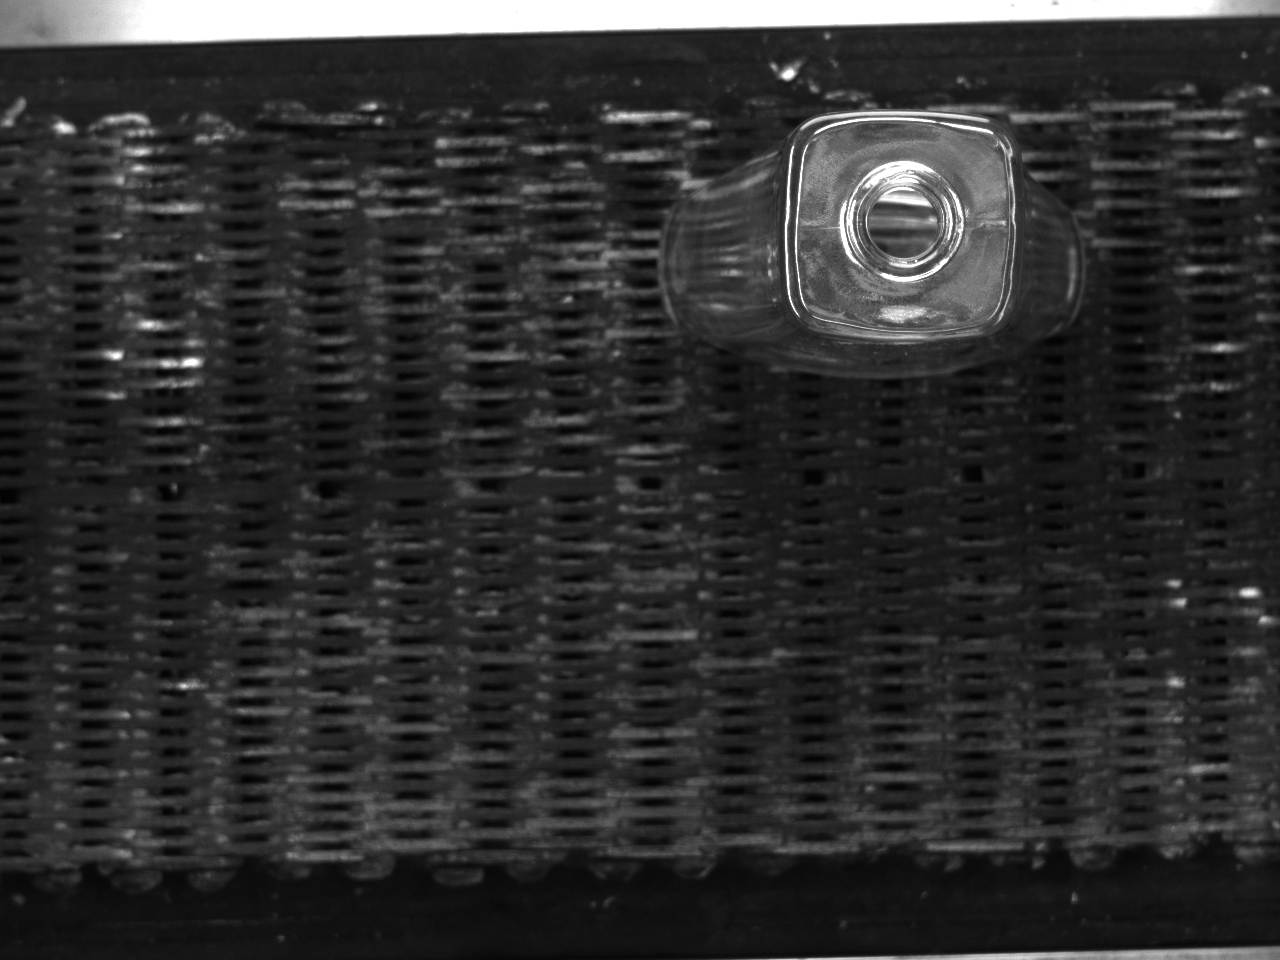bottleneck: (848, 161, 965, 282)
